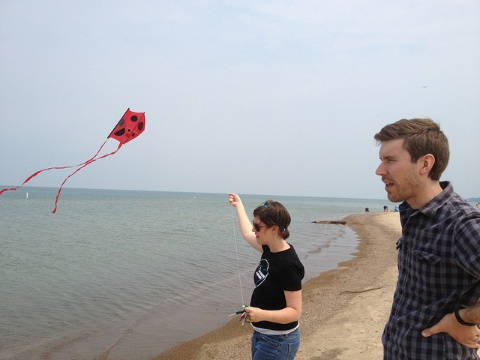hand: (244, 304, 263, 323), (227, 190, 241, 207)
